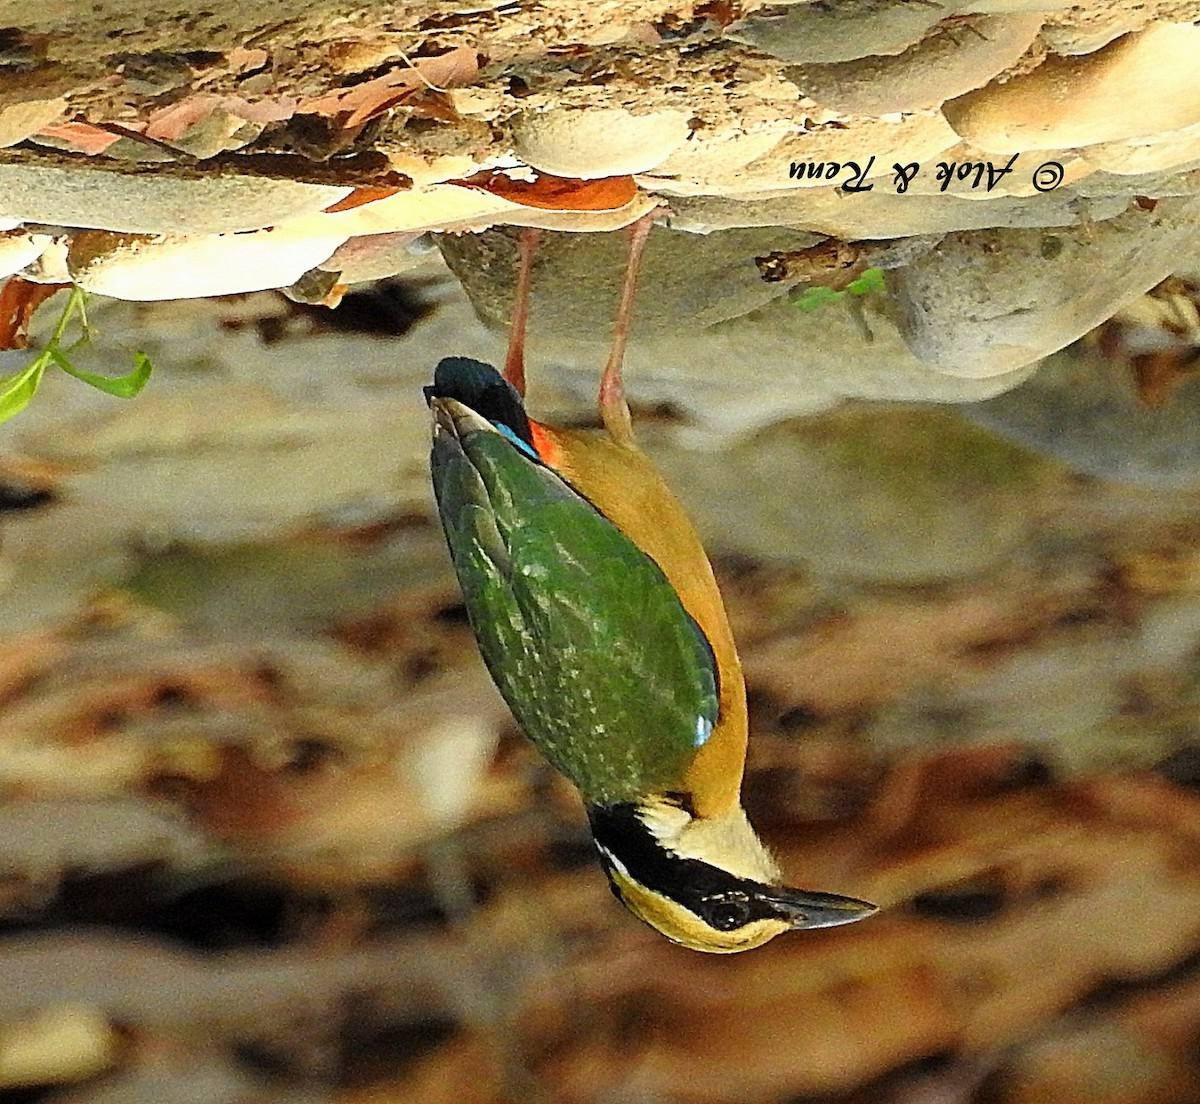pitta: (403, 194, 911, 949)
